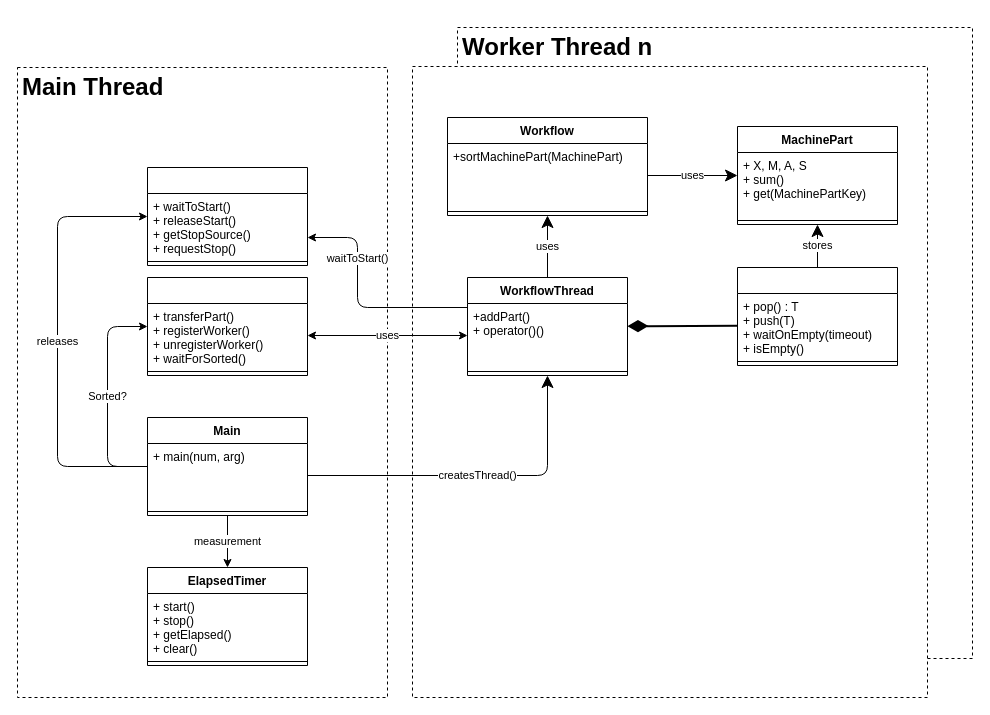
Image size: 990x715. Some labels were removed from this diagram. Each missing label, with the box of its shape:
PartCoordinator: (146, 276, 308, 376)
ThreadCoordinator: (146, 166, 308, 266)
ThreadsafeQueue: (736, 266, 898, 366)
Worker Thread 1: (412, 66, 928, 698)
